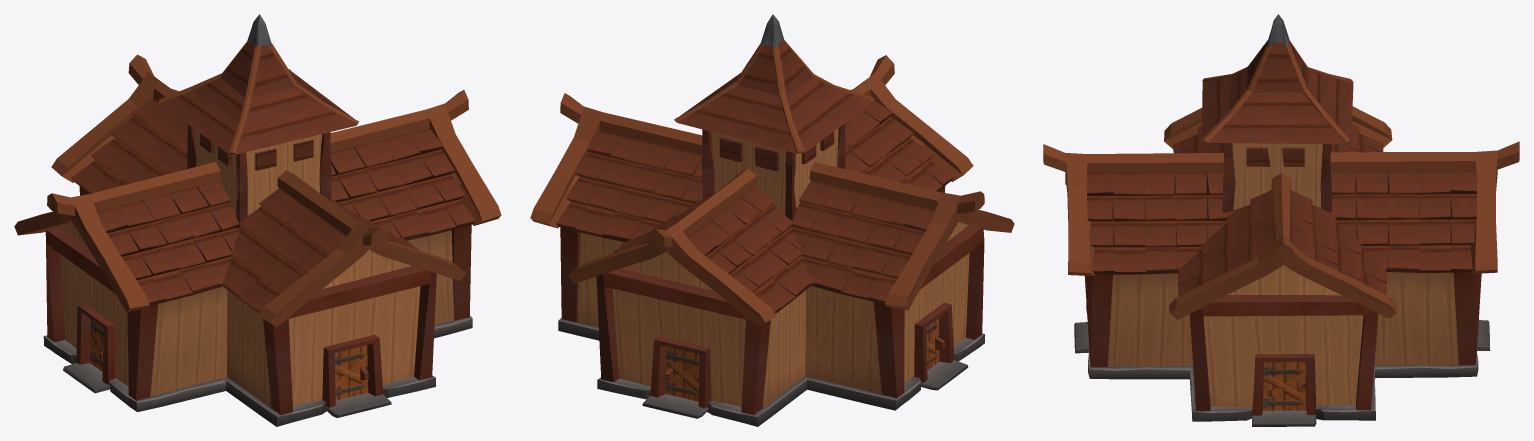
The model's file is Barracks_Warrior.fbx.
3 views of the same model, side by side, from view 1: azimuth 30°, elevation 25°; view 2: azimuth 150°, elevation 25°; view 3: azimuth 270°, elevation 25° (orthographic).
Parts seen in each view (by area): view 1: Barracks_Warrior; view 2: Barracks_Warrior; view 3: Barracks_Warrior.
Boxes of the visible parts, left/top/right/bottom form: Barracks_Warrior: left=14, top=14, right=501, bottom=426; Barracks_Warrior: left=530, top=14, right=1014, bottom=426; Barracks_Warrior: left=1043, top=14, right=1519, bottom=426.
Bounding box in the file's own units: 6.67 × 4.98 × 6.61.
